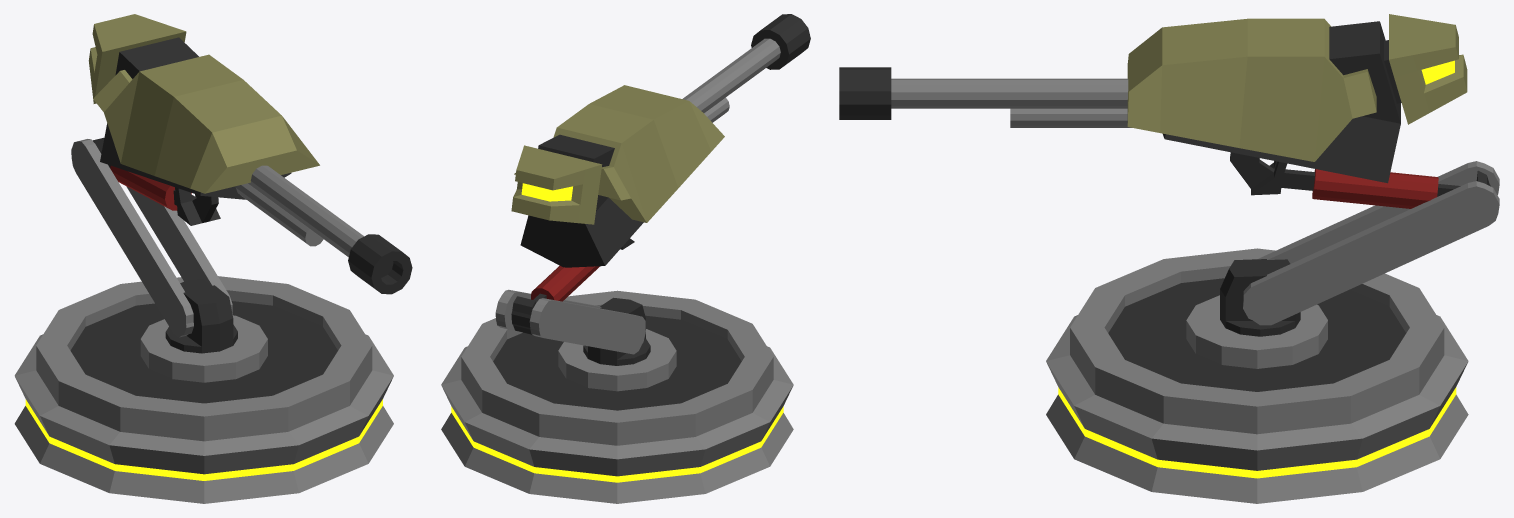
The model's file is pew.fbx.
3 renders of one model, left to right at view 1: azimuth 30°, elevation 25°; view 2: azimuth 150°, elevation 25°; view 3: azimuth 270°, elevation 25°, orthographic. The views are drawn at different scales.
Parts seen in each view (by area): view 1: pewBase, pewBody, pewArmBottom, pewPivot, pewArmTop; view 2: pewBase, pewBody, pewArmBottom, pewArmTop, pewPivot; view 3: pewBase, pewBody, pewArmBottom, pewArmTop, pewPivot.
Part boxes in pixels (bbox=[...]): pewBase: bbox=[14, 276, 393, 503]; pewBody: bbox=[88, 14, 412, 294]; pewArmBottom: bbox=[71, 139, 232, 337]; pewPivot: bbox=[165, 278, 237, 353]; pewArmTop: bbox=[92, 137, 220, 225]; pewBase: bbox=[441, 290, 793, 503]; pewBody: bbox=[511, 14, 810, 267]; pewArmBottom: bbox=[495, 289, 645, 354]; pewArmTop: bbox=[511, 238, 634, 334]; pewPivot: bbox=[583, 297, 650, 365]; pewBase: bbox=[1046, 248, 1468, 503]; pewBody: bbox=[839, 14, 1467, 183]; pewArmBottom: bbox=[1243, 161, 1499, 325]; pewArmTop: bbox=[1230, 152, 1490, 208]; pewPivot: bbox=[1220, 259, 1300, 336].
Bounding box in the file's own units: 200 × 197 × 312.
